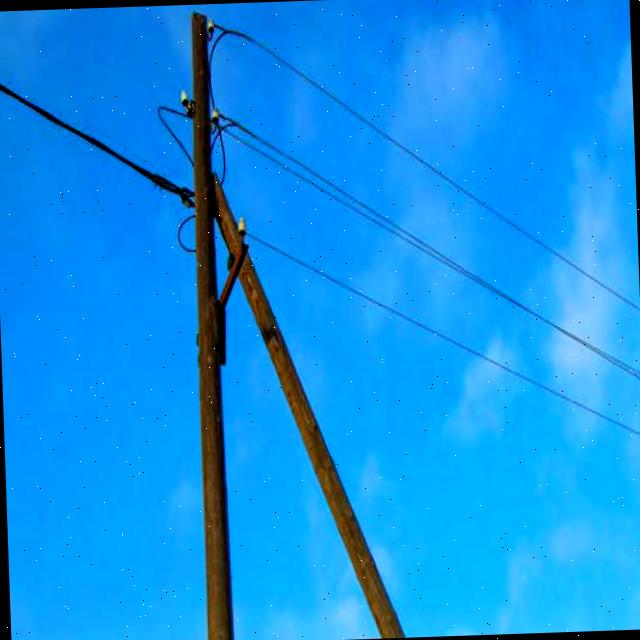Broken Pole: (210, 170, 410, 637)
